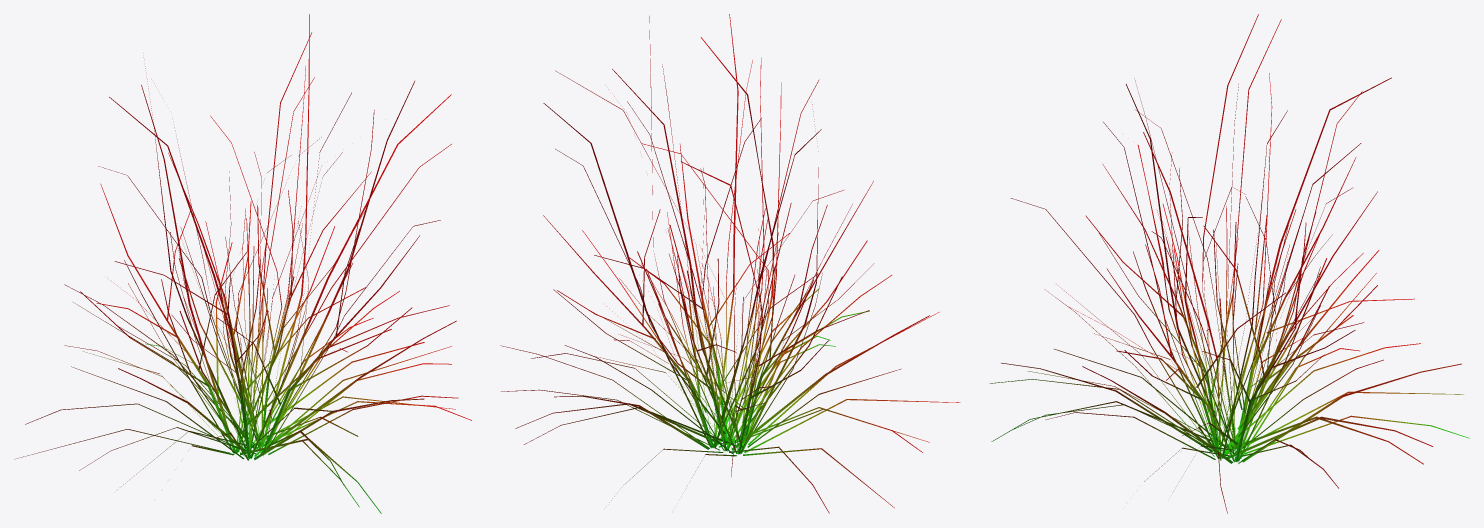
Rendered from Xeric Grass_LOD3_Var3_xjfgdhaqx.fbx.
3 views of the same model, side by side, from view 1: azimuth 30°, elevation 25°; view 2: azimuth 150°, elevation 25°; view 3: azimuth 270°, elevation 25° (orthographic). The views are drawn at different scales.
Visible parts, largest first — view 1: _4h49_Var3_LOD3; view 2: _4h49_Var3_LOD3; view 3: _4h49_Var3_LOD3.
Part boxes in pixels (left/top/right/bottom): _4h49_Var3_LOD3: left=14, top=14, right=471, bottom=513; _4h49_Var3_LOD3: left=500, top=14, right=960, bottom=513; _4h49_Var3_LOD3: left=989, top=14, right=1469, bottom=513.
Size of the model in its own units: 176 by 162 by 177.
